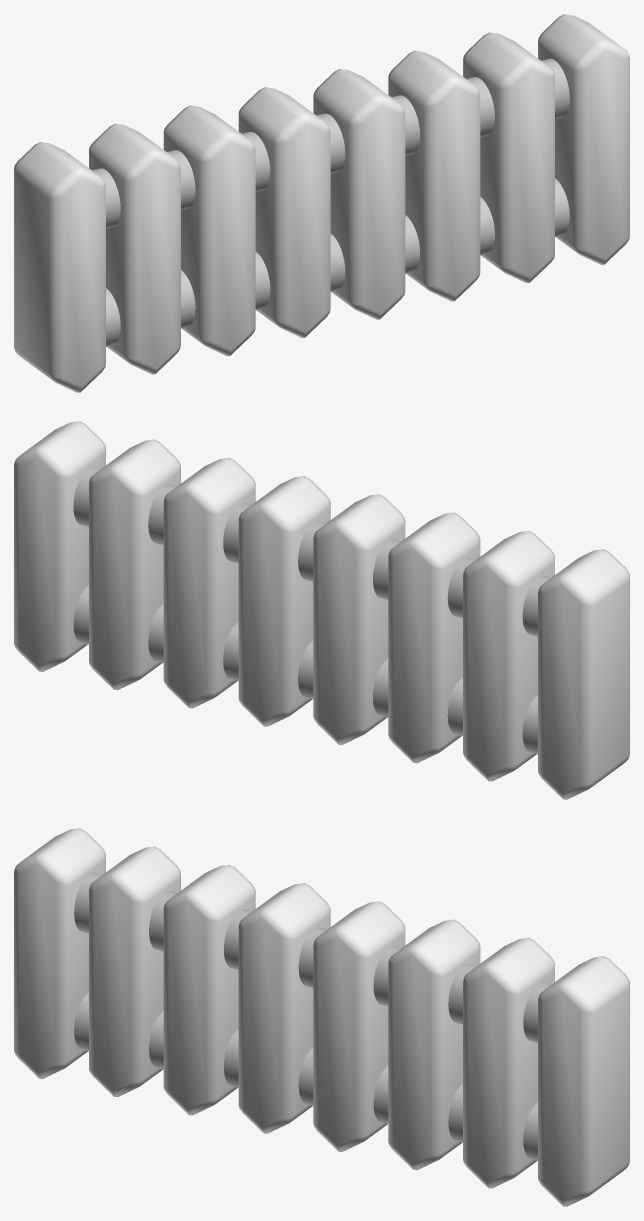
File: Battery.fbx
3 views of the same model, one above another, from view 1: azimuth 30°, elevation 25°; view 2: azimuth 150°, elevation 25°; view 3: azimuth 330°, elevation 25° (orthographic).
Visible parts, largest first — view 1: Battery; view 2: Battery; view 3: Battery.
Part boxes in pixels (left/top/right/bottom): Battery: left=14, top=14, right=629, bottom=392; Battery: left=14, top=421, right=629, bottom=799; Battery: left=14, top=828, right=629, bottom=1206.
Size of the model in its own units: 280 by 103 by 36.81.
